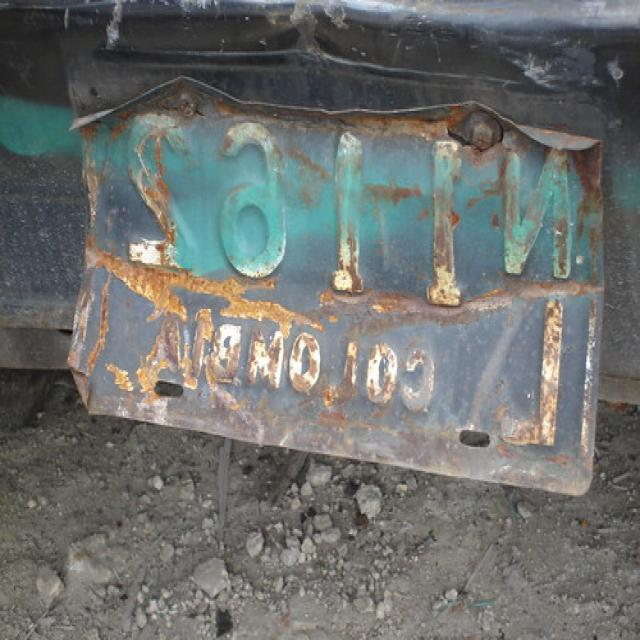placas: (88, 101, 592, 301)
